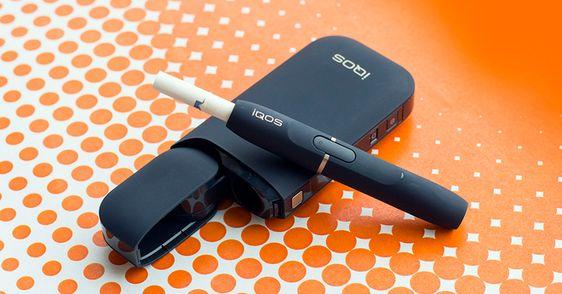iqos: (153, 73, 467, 227)
